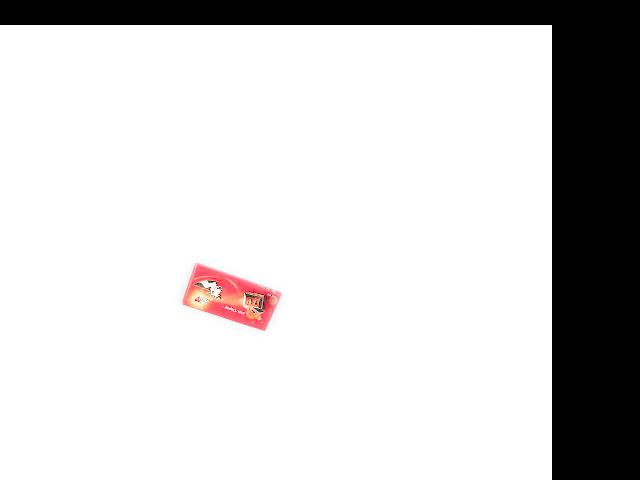chocolate: (184, 262, 282, 332)
